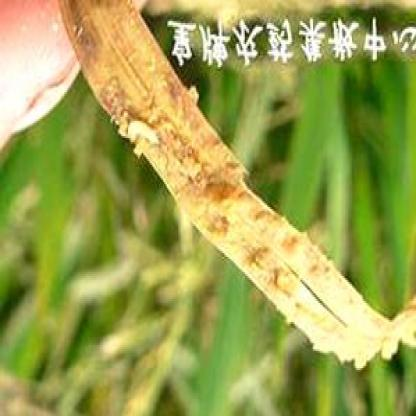whorl-maggot: (123, 110, 162, 154)
